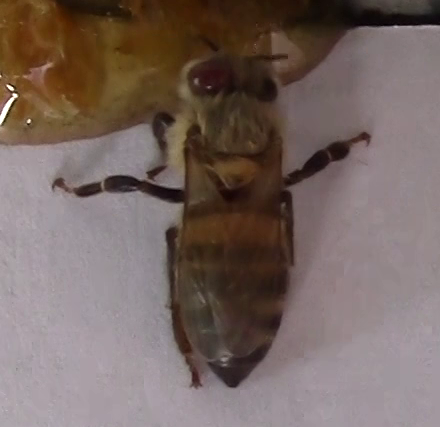Varroa destructor: (184, 58, 238, 97)
